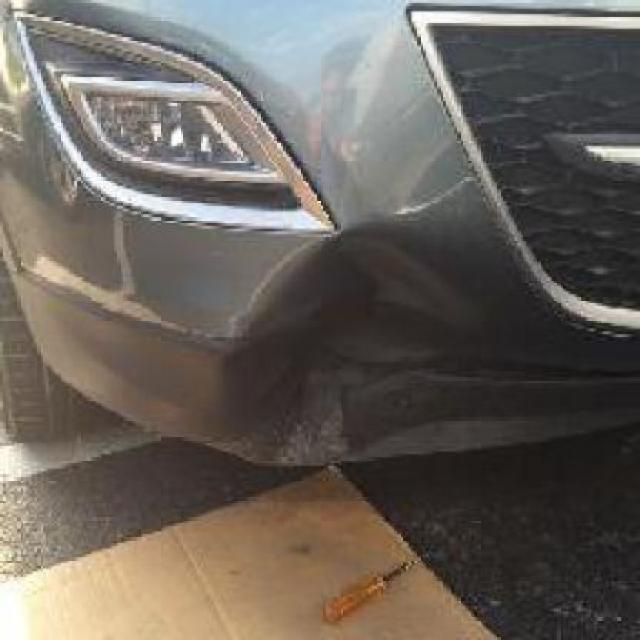dent-or-scratch: (233, 238, 442, 431)
